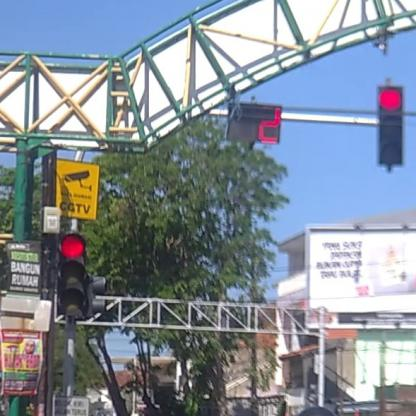red: (58, 234, 85, 319), (377, 85, 402, 166)
